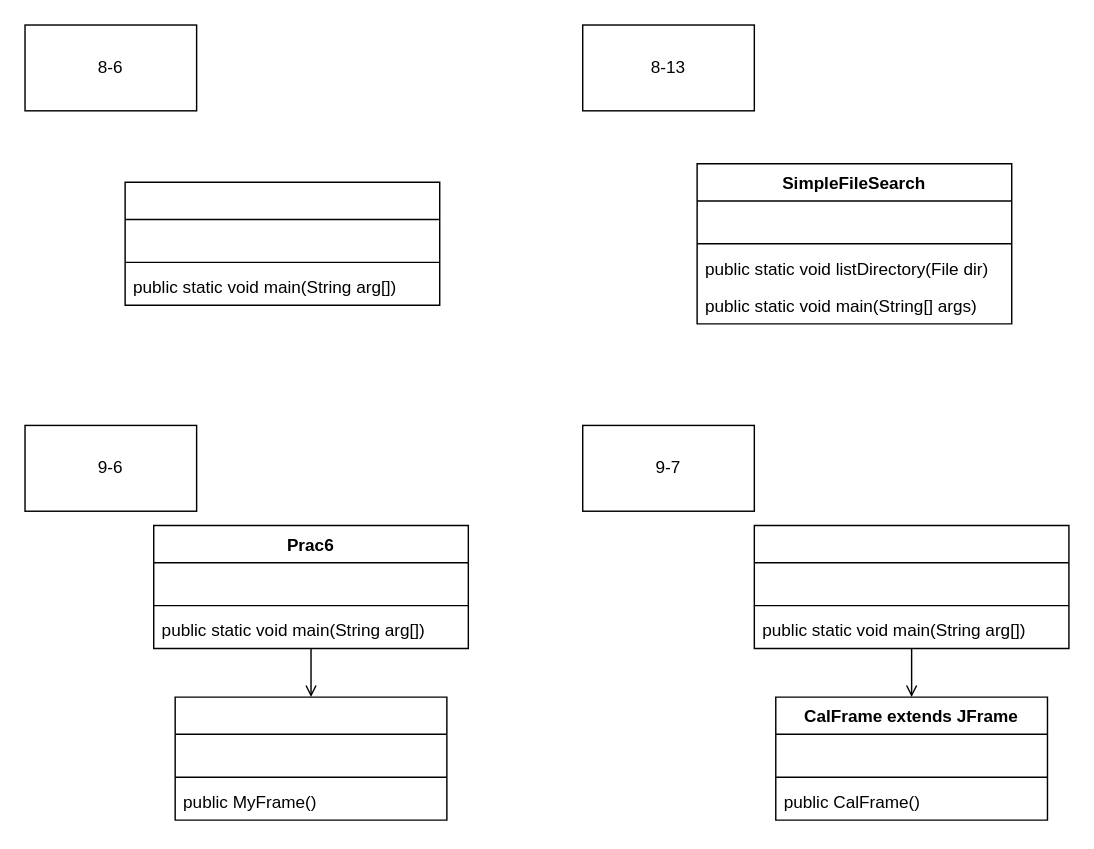
The diagram is 1094 pixels wide and 849 high, and some of its shapes have lost their labels. Each missing label, with the box of its shape:
MyFrame extends JFrame: (174, 696, 447, 820)
Prac7: (753, 524, 1069, 649)
TxtFile: (124, 181, 440, 305)
